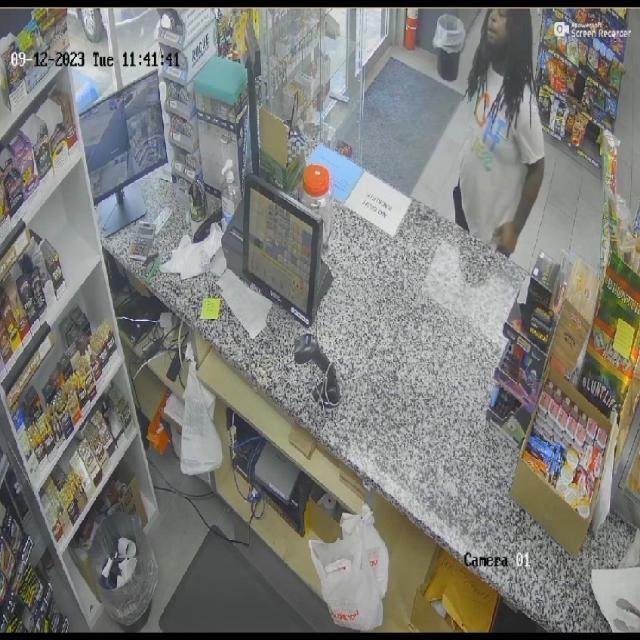normal: (440, 7, 563, 266)
